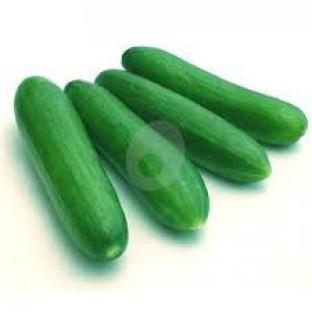Cucumber: (66, 81, 207, 230), (14, 77, 127, 259), (96, 70, 270, 181), (123, 48, 307, 145)
